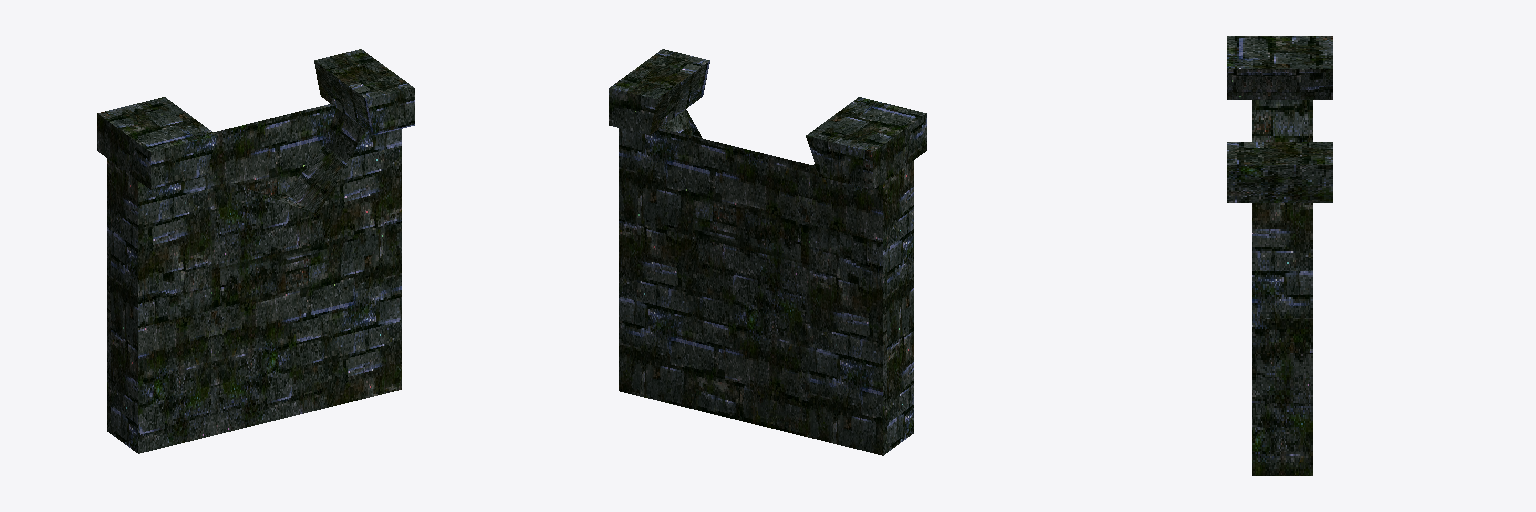
The picture shows the model from 3 angles: view 1: azimuth 30°, elevation 25°; view 2: azimuth 150°, elevation 25°; view 3: azimuth 270°, elevation 25°; orthographic projection.
Parts seen in each view (by area): view 1: wall2; view 2: wall2; view 3: wall2.
Boxes of the visible parts, box(x1,y1,x2,y2) form: wall2: box(97, 49, 414, 453); wall2: box(609, 49, 926, 455); wall2: box(1227, 36, 1332, 475).
Size of the model in its own units: 4 by 4.5 by 1.4.
1 materials, 1 textured.